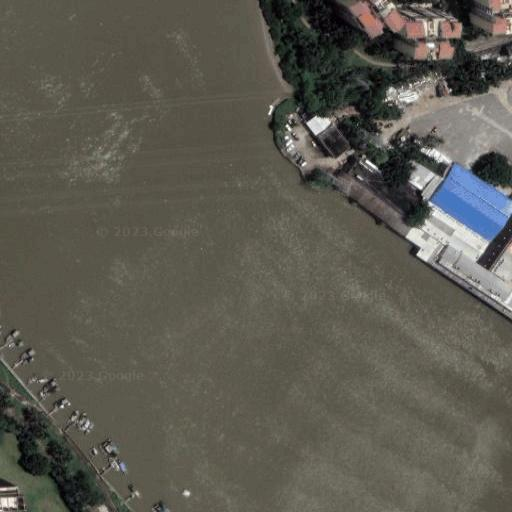building: (405, 201, 512, 322), (429, 162, 512, 243), (332, 0, 445, 51), (331, 172, 415, 237), (344, 159, 425, 223), (393, 154, 444, 201), (477, 211, 512, 272), (316, 122, 352, 160), (465, 0, 508, 29), (305, 109, 333, 136), (0, 484, 21, 511)
